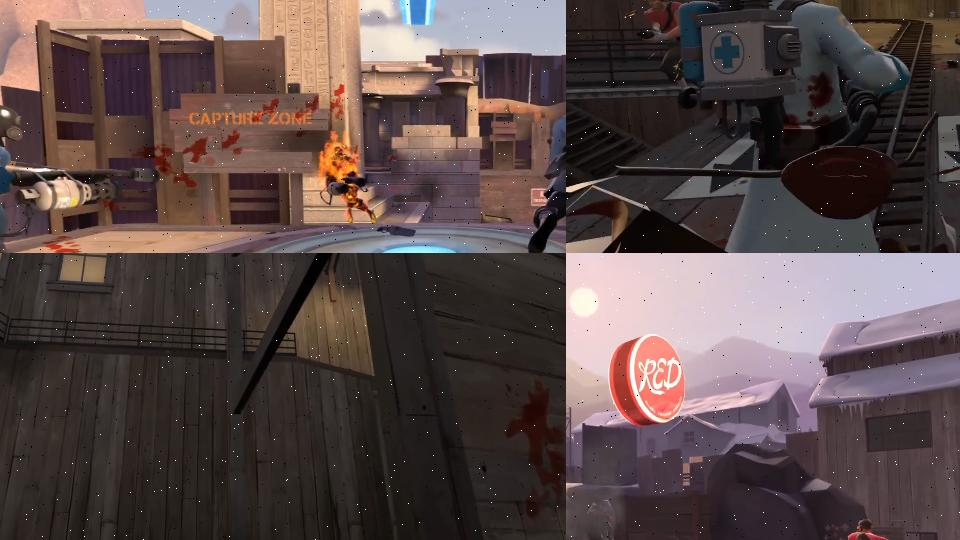Enemy: (677, 0, 914, 253), (0, 99, 161, 253), (529, 97, 566, 253), (321, 143, 376, 226), (636, 0, 685, 89), (587, 495, 615, 540)
